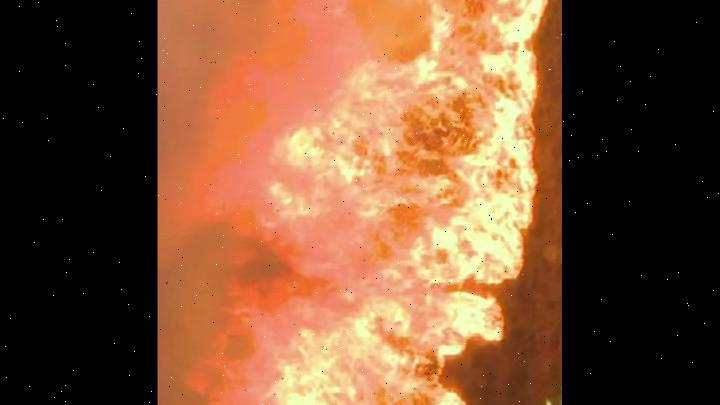fire: (185, 0, 562, 405)
